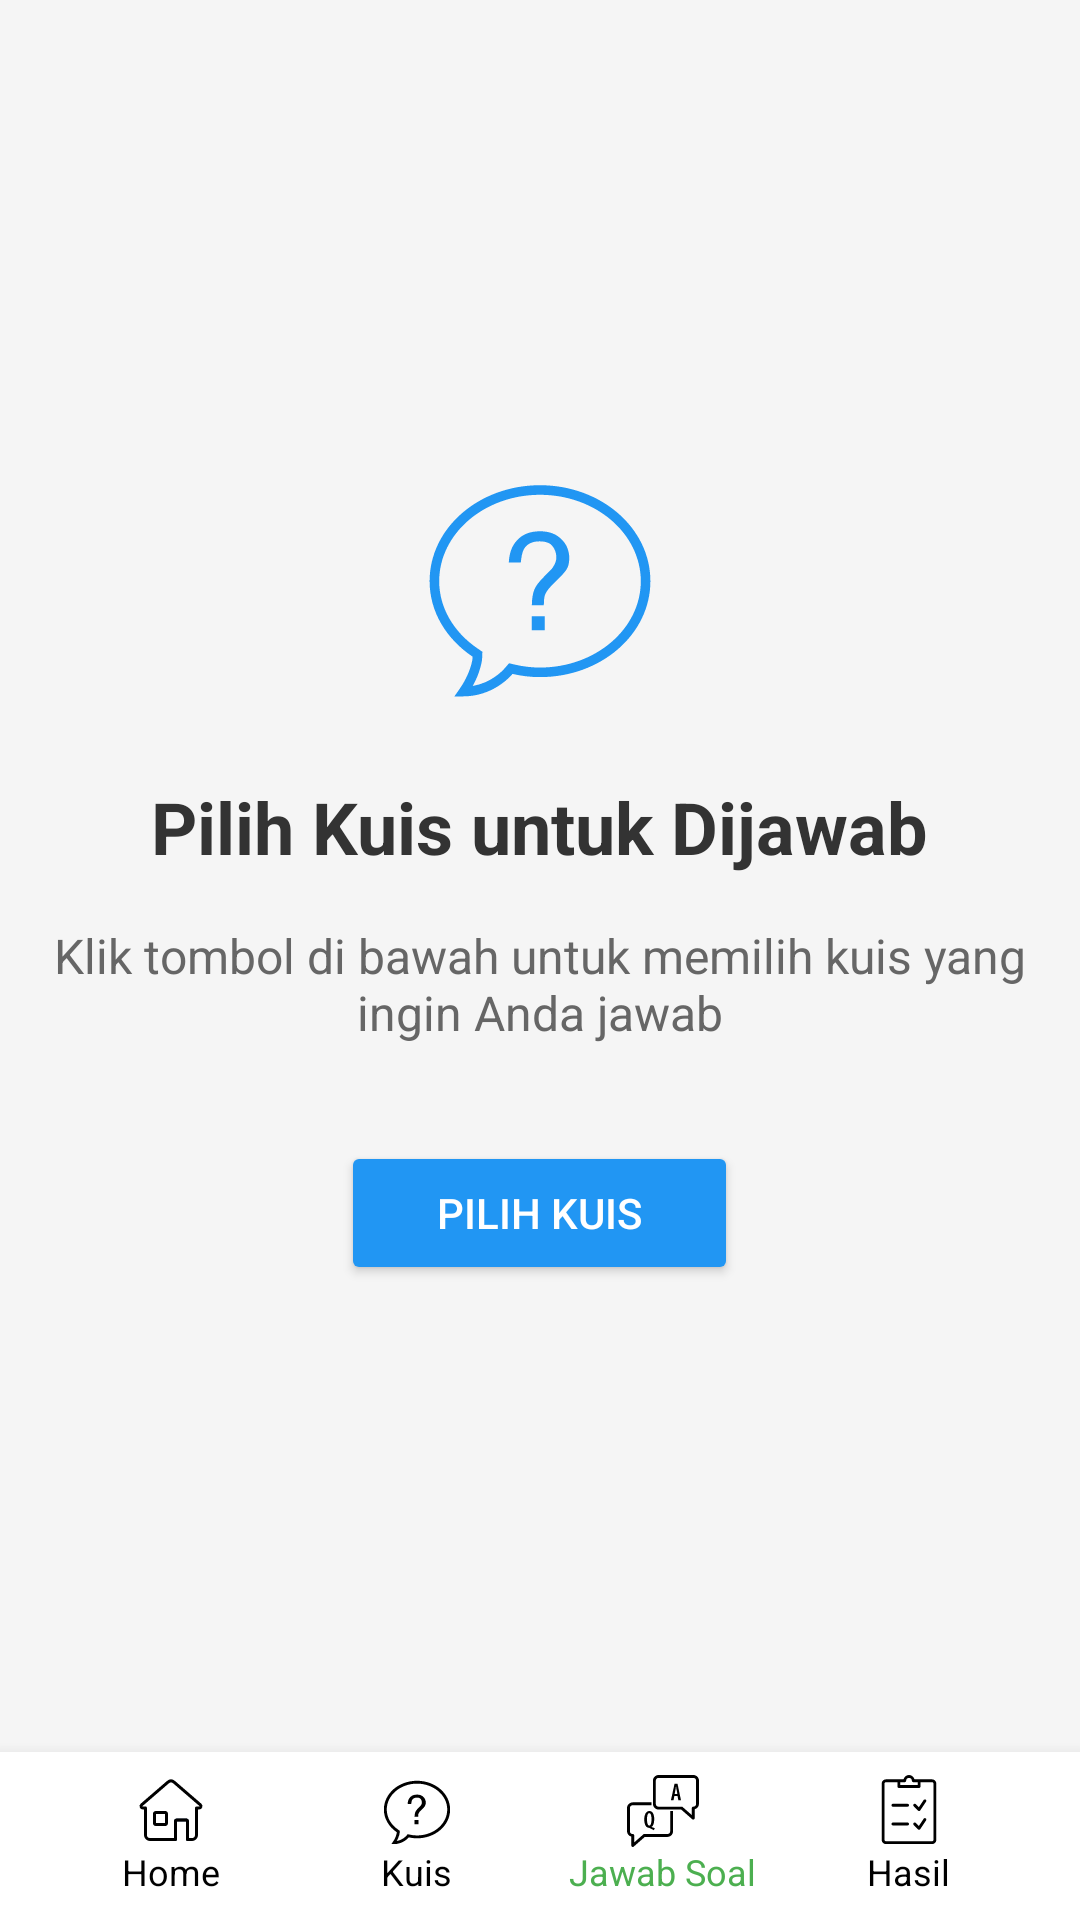

Screen size 1080x1920. Icon name, then its box in pixels as (x1, y1, x2, y2):
question: (429, 485, 651, 697)
